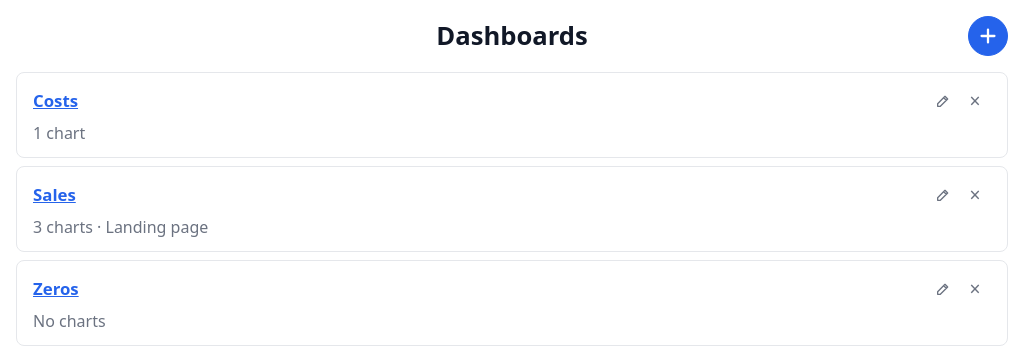
it: deletes a dashboard from its ×
Click the button named "Delete Sales".
click(975, 195)  # box [959,179,991,211]
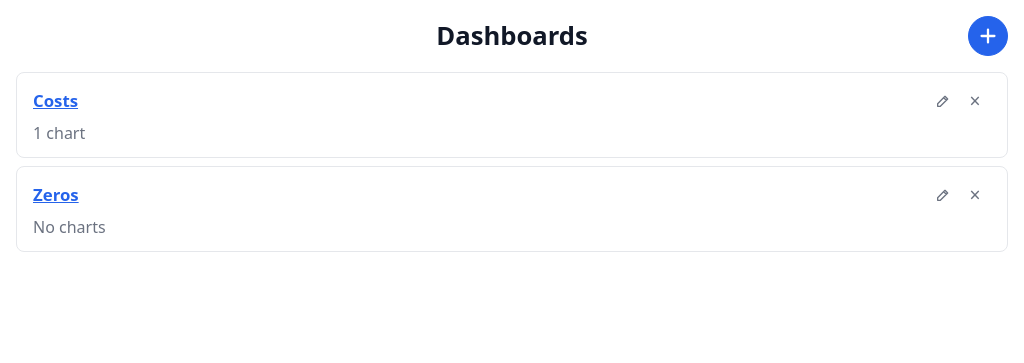
Expected: the link "Sales" is gone
